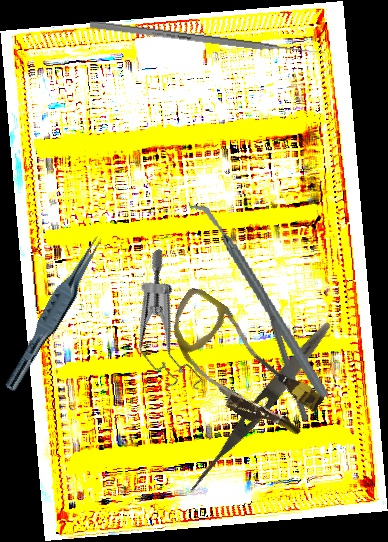Cannula: (146, 283, 337, 450)
Chopper: (188, 185, 330, 414)
Dressing Forceps: (183, 317, 336, 500)
Pusher: (89, 20, 326, 58), (256, 281, 311, 422)
Speculum: (94, 246, 244, 406)
Tissue Forceps: (3, 230, 107, 397)
